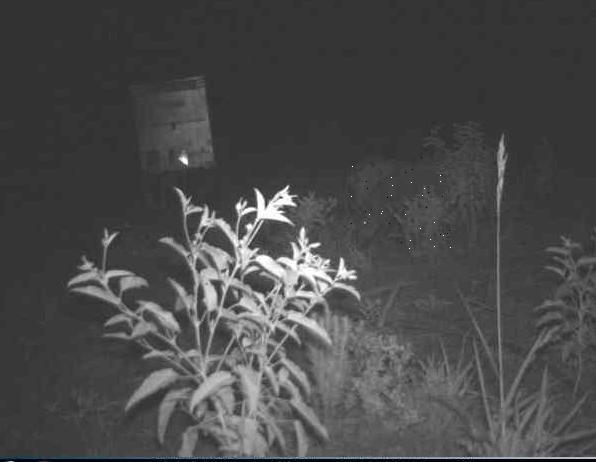Hog: (352, 155, 454, 252)
